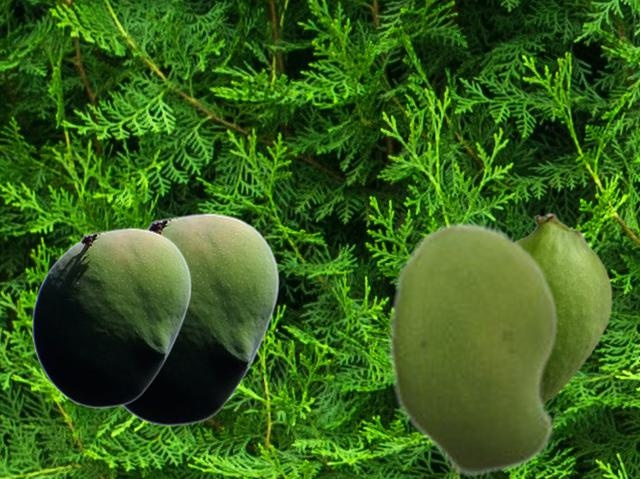green_mango: (388, 221, 558, 477), (120, 212, 279, 425), (31, 227, 191, 407), (517, 212, 611, 403)
